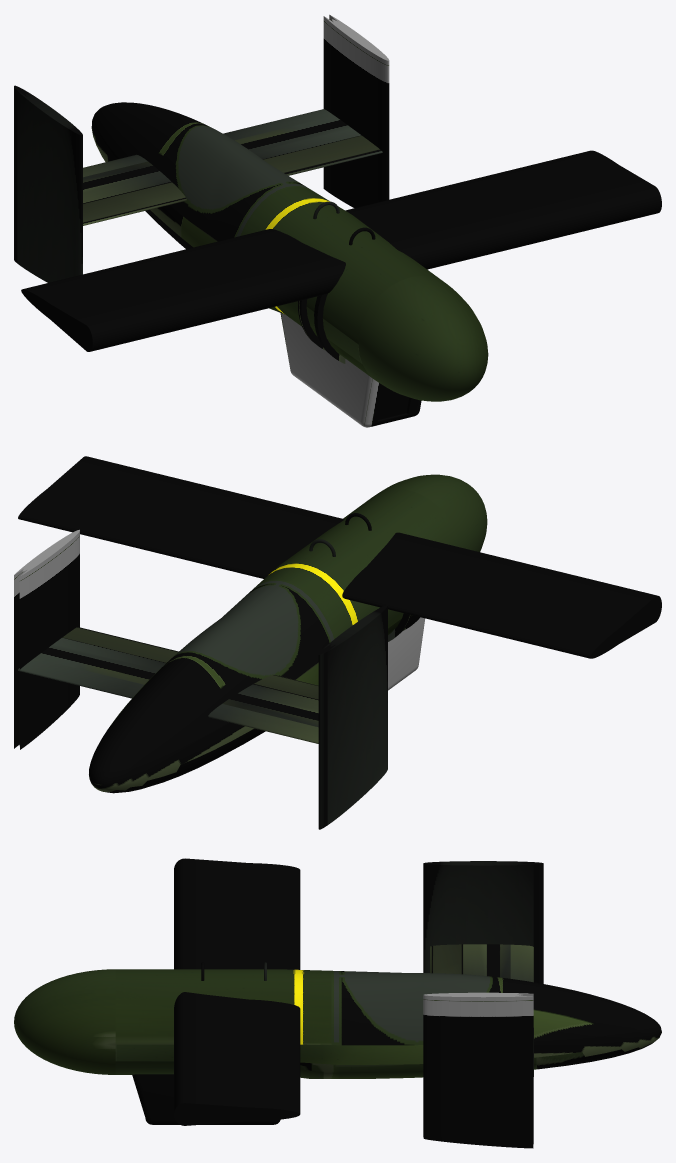
Rendered from glide_bomb.obj.
The picture shows the model from 3 angles, top to bottom: view 1: azimuth 30°, elevation 25°; view 2: azimuth 150°, elevation 25°; view 3: azimuth 270°, elevation 25°; orthographic projection. The views are drawn at different scales.
Parts seen in each view (by area): view 1: Cylinder016_Material_29_0, Capsule002_Material_28_0, Cylinder021_Material_27_0, Cylinder017_Material_31_0, Cylinder018_Material_27_0, ChamferBox003_Material_30_0, Mesh004_Material_27_0, Mesh005_Material_27_0, Box010_Material_27_0, Cylinder019_Material_27_0; view 2: Cylinder016_Material_29_0, Capsule002_Material_28_0, Cylinder021_Material_27_0, Cylinder017_Material_31_0, Cylinder018_Material_27_0, Mesh004_Material_27_0, Mesh005_Material_27_0, ChamferBox003_Material_30_0; view 3: Capsule002_Material_28_0, Cylinder016_Material_29_0, Cylinder017_Material_31_0, Cylinder021_Material_27_0, Cylinder018_Material_27_0, ChamferBox003_Material_30_0, Mesh005_Material_27_0, Mesh004_Material_27_0.
Boxes of the visible parts, left/top/right/bottom form: Cylinder016_Material_29_0: left=21, top=150, right=661, bottom=351; Capsule002_Material_28_0: left=91, top=102, right=488, bottom=401; Cylinder021_Material_27_0: left=17, top=89, right=82, bottom=282; Cylinder017_Material_31_0: left=323, top=14, right=389, bottom=208; Cylinder018_Material_27_0: left=83, top=116, right=382, bottom=225; ChamferBox003_Material_30_0: left=280, top=313, right=421, bottom=427; Mesh004_Material_27_0: left=83, top=109, right=334, bottom=177; Mesh005_Material_27_0: left=14, top=85, right=30, bottom=262; Box010_Material_27_0: left=378, top=386, right=409, bottom=419; Cylinder019_Material_27_0: left=314, top=269, right=427, bottom=363; Cylinder016_Material_29_0: left=18, top=456, right=661, bottom=658; Capsule002_Material_28_0: left=89, top=474, right=487, bottom=793; Cylinder021_Material_27_0: left=323, top=605, right=387, bottom=824; Cylinder017_Material_31_0: left=14, top=529, right=79, bottom=749; Cylinder018_Material_27_0: left=35, top=627, right=318, bottom=727; Mesh004_Material_27_0: left=18, top=658, right=318, bottom=743; Mesh005_Material_27_0: left=318, top=644, right=334, bottom=829; ChamferBox003_Material_30_0: left=388, top=617, right=425, bottom=690; Capsule002_Material_28_0: left=14, top=969, right=661, bottom=1078; Cylinder016_Material_29_0: left=174, top=858, right=300, bottom=1125; Cylinder017_Material_31_0: left=423, top=992, right=533, bottom=1148; Cylinder021_Material_27_0: left=423, top=861, right=533, bottom=972; Cylinder018_Material_27_0: left=430, top=944, right=510, bottom=978; ChamferBox003_Material_30_0: left=132, top=1074, right=280, bottom=1124; Mesh005_Material_27_0: left=517, top=862, right=543, bottom=983; Mesh004_Material_27_0: left=510, top=944, right=533, bottom=1076.
Size of the model in its own units: 7.1 by 2.51 by 7.95.
